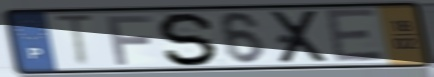6: (220, 10, 268, 66)
E: (322, 7, 388, 65)
F: (103, 14, 157, 67)
S: (156, 11, 222, 68)
T: (51, 13, 98, 69)
X: (268, 9, 333, 66)
